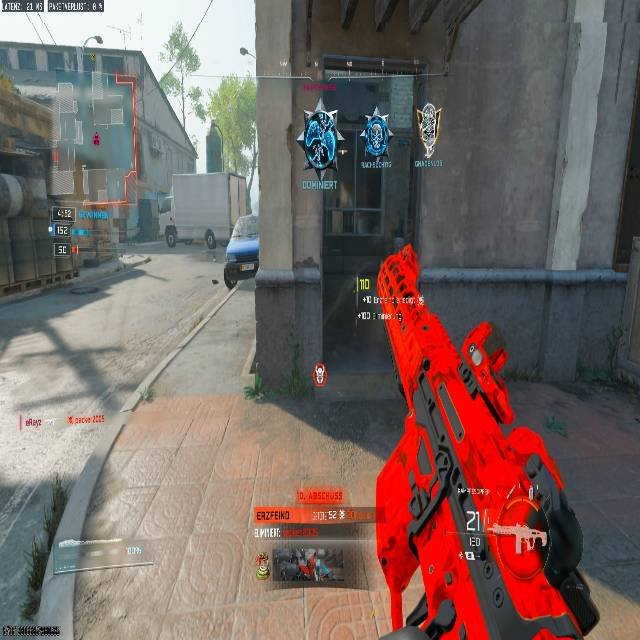player: (301, 108, 339, 174), (165, 221, 177, 248)
